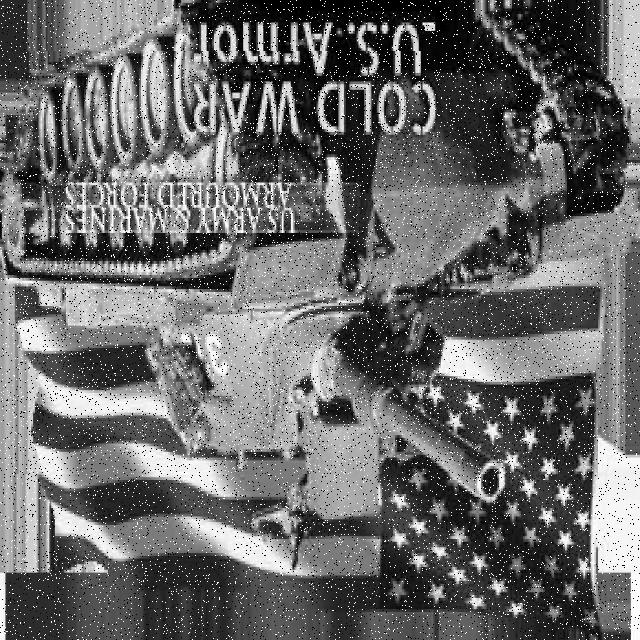MIL_MBT: (12, 51, 574, 474)
